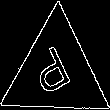P_SE: (31, 41, 81, 103)
